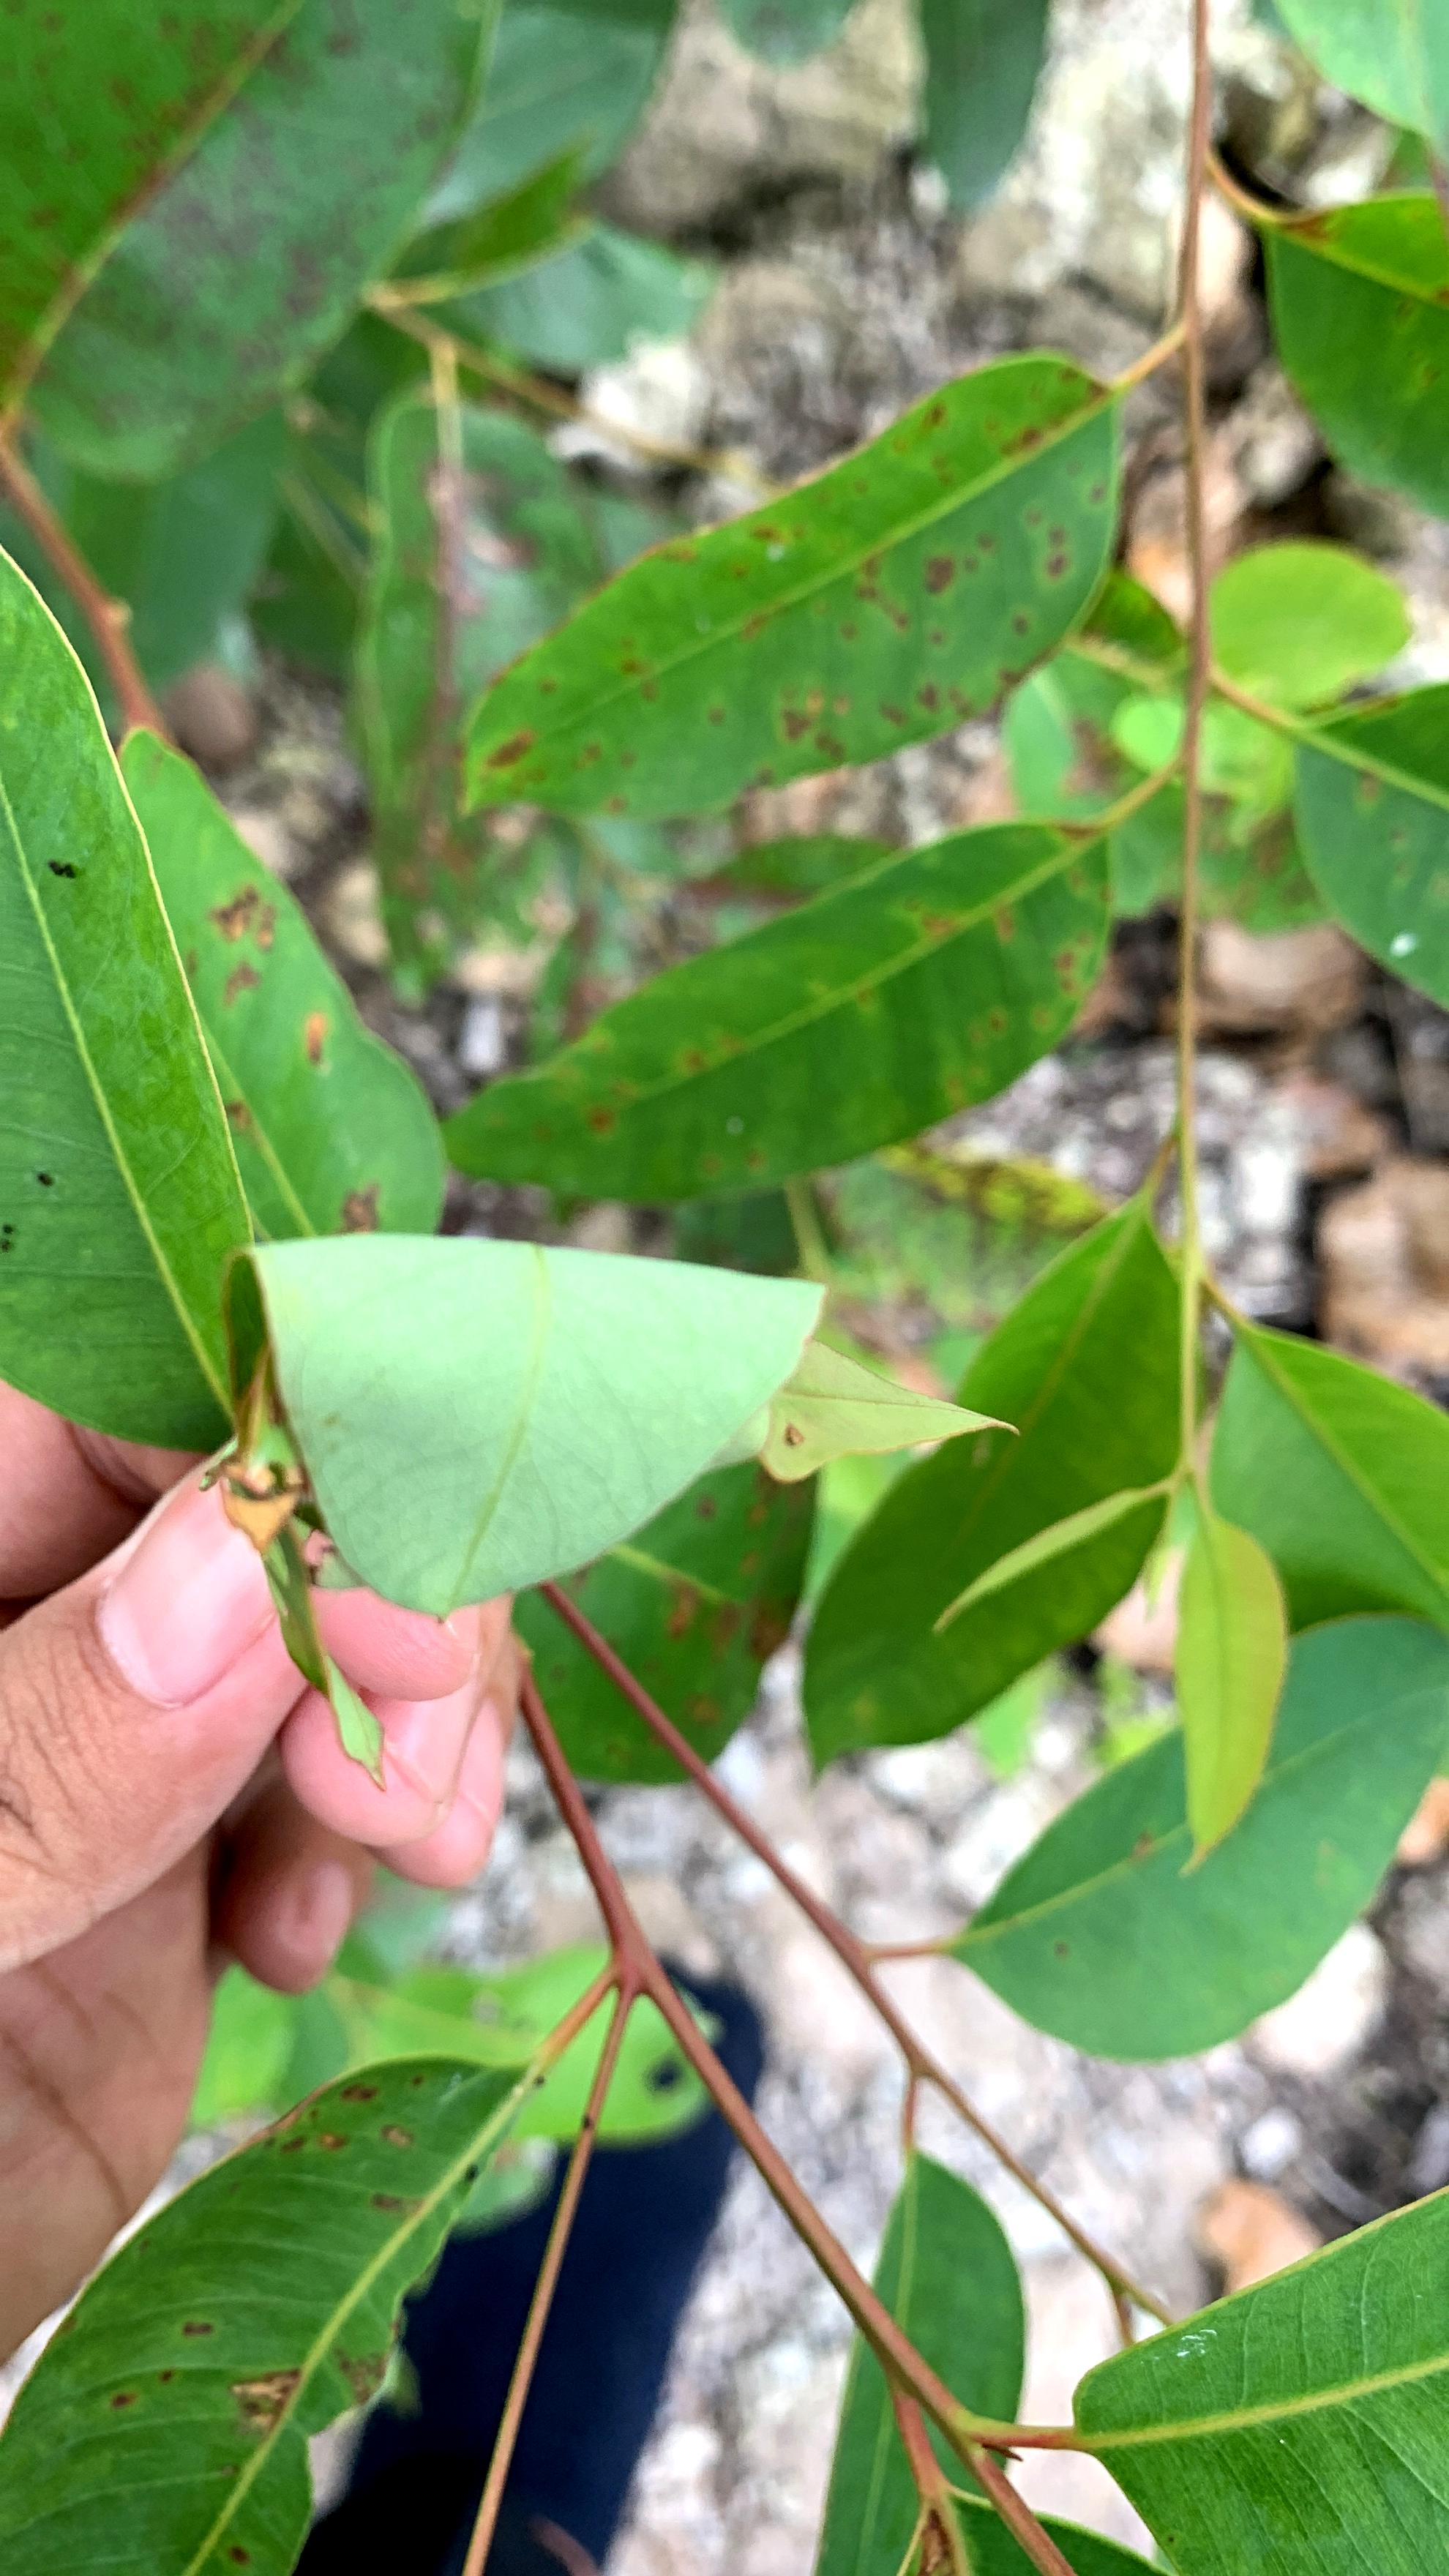Leaf Roller - Leaf: (212, 1208, 1033, 1706)
